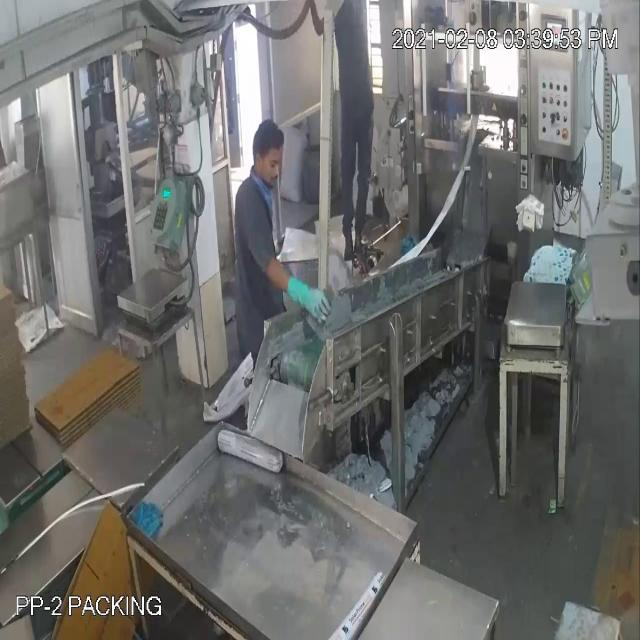Gloves: (266, 244, 336, 324)
